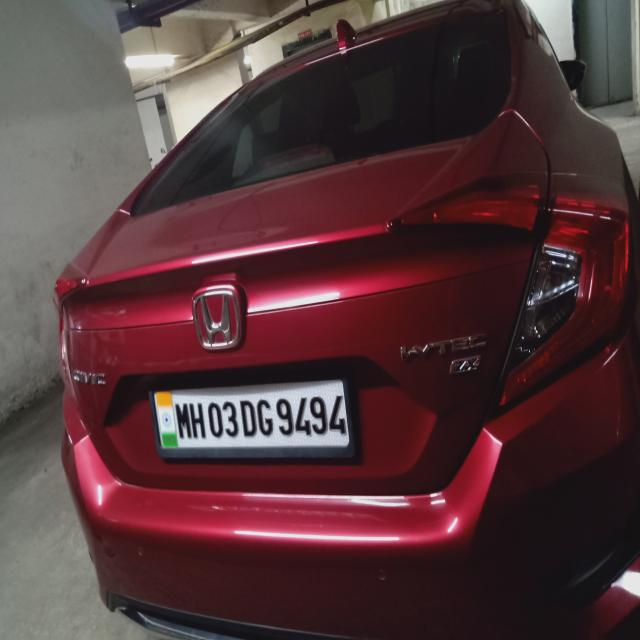Number-Plate: (154, 388, 348, 446)
